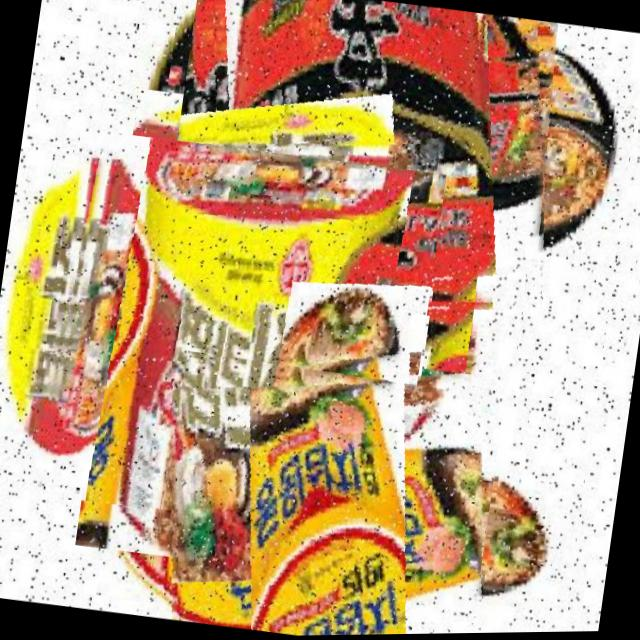Miscellaneous: (32, 124, 447, 544), (155, 0, 572, 347), (143, 346, 506, 638)
